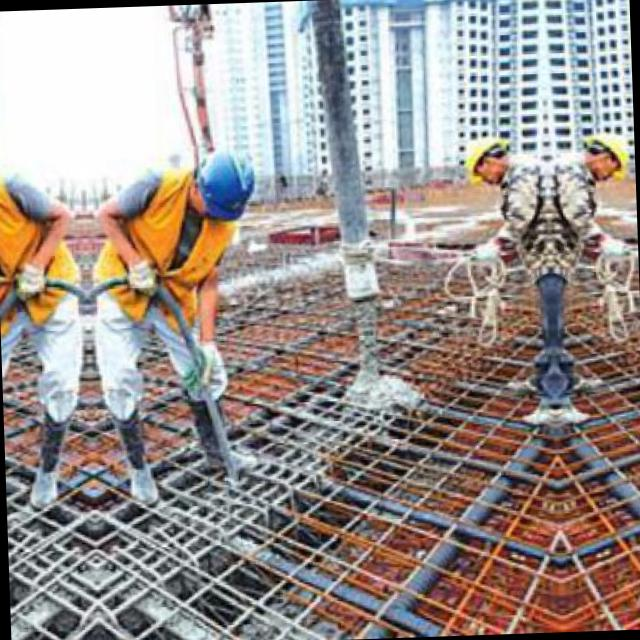helmet: (192, 140, 251, 233), (578, 126, 632, 180), (460, 130, 513, 183)
